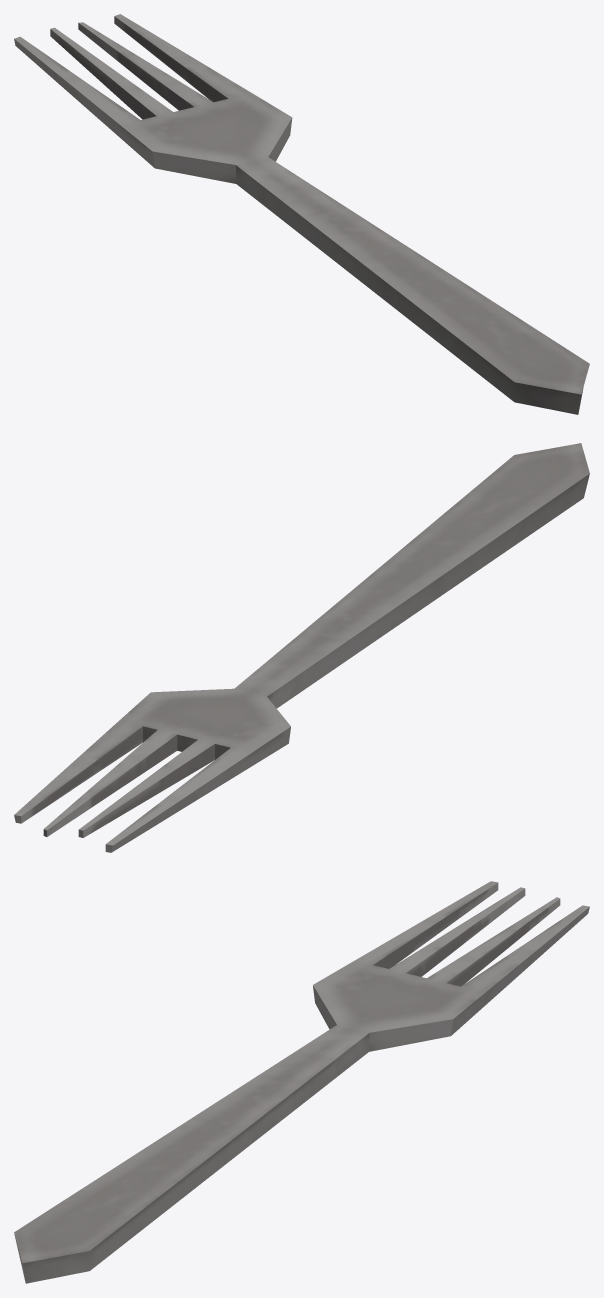
3 views of the same model, one above another, from view 1: azimuth 30°, elevation 25°; view 2: azimuth 150°, elevation 25°; view 3: azimuth 330°, elevation 25° (orthographic).
Parts seen in each view (by area): view 1: submesh_0; view 2: submesh_0; view 3: submesh_0.
Boxes of the visible parts, x1,y1,x2,y2 form: submesh_0: (14,14,589,414); submesh_0: (14,443,589,852); submesh_0: (14,881,589,1283).
Bounding box in the file's own units: 0.0689 × 0.0127 × 0.4421.
Materials: 1 (1 with a texture image).
